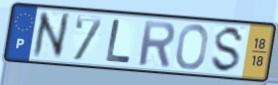7: (73, 13, 105, 63)
L: (104, 17, 134, 64)
N: (31, 10, 71, 60)
O: (174, 23, 210, 72)
R: (137, 19, 177, 69)
S: (208, 25, 247, 75)
